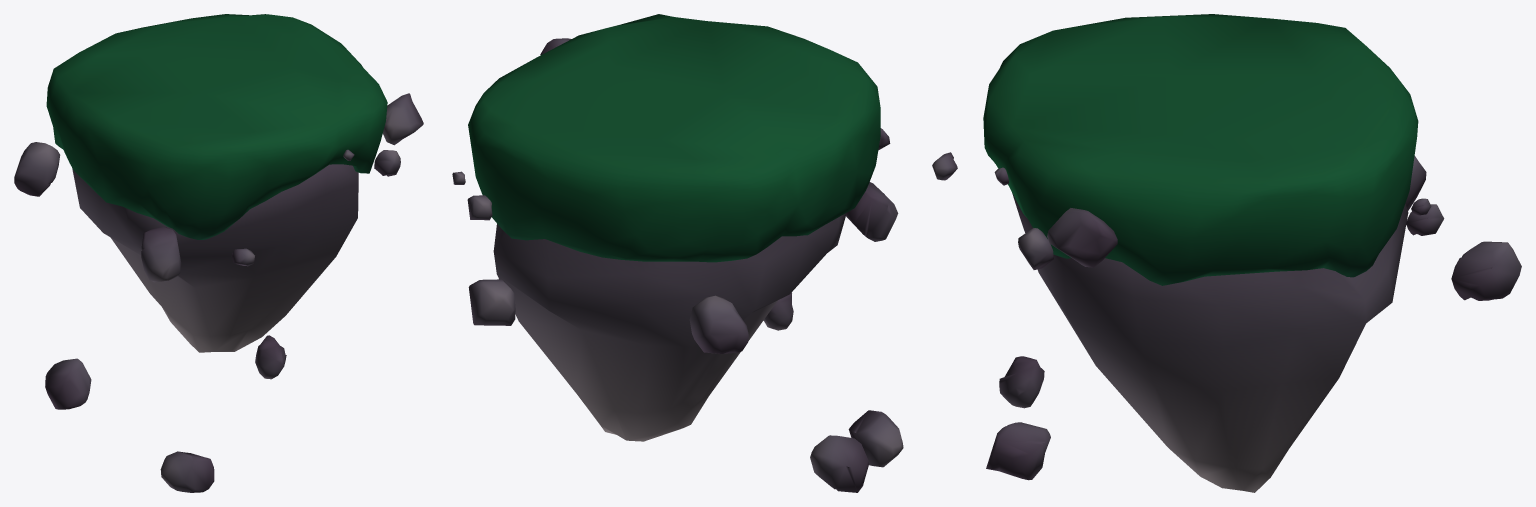
The model's file is Floating_Isle_Saint_Patrick.fbx.
3 renders of one model, left to right at view 1: azimuth 30°, elevation 25°; view 2: azimuth 150°, elevation 25°; view 3: azimuth 270°, elevation 25°, orthographic. The views are drawn at different scales.
Parts seen in each view (by area): view 1: Folliage_Floating_Rock1_0_1.013; view 2: Folliage_Floating_Rock1_0_1.013; view 3: Folliage_Floating_Rock1_0_1.013.
Boxes of the visible parts, left/top/right/bottom form: Folliage_Floating_Rock1_0_1.013: left=14, top=14, right=423, bottom=492; Folliage_Floating_Rock1_0_1.013: left=452, top=14, right=903, bottom=492; Folliage_Floating_Rock1_0_1.013: left=932, top=14, right=1521, bottom=492.
Bounding box in the file's own units: 1851 × 1860 × 2228.
